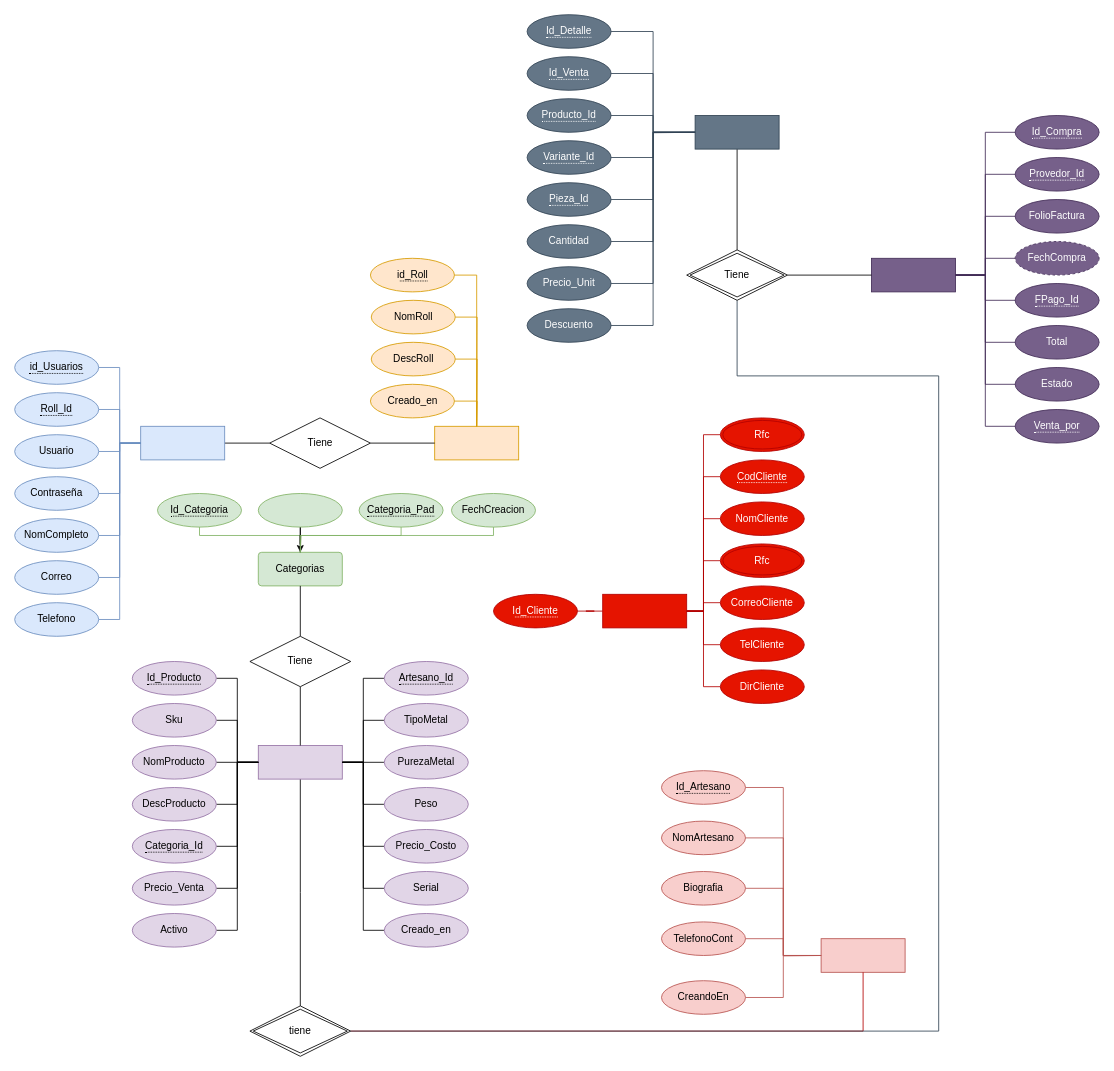
Image size: 1114x1071. Some labels were removed from this diagram. Here are the shapes that lost their labels. From the top down, the centre of each, then its label:
point 736,132: Detalleventa
point 913,274: Compra
point 182,442: Usuarios
point 476,442: Roles
point 299,510: NomCategoria
point 644,610: Cliente
point 299,762: Productos
point 862,955: Artesano
